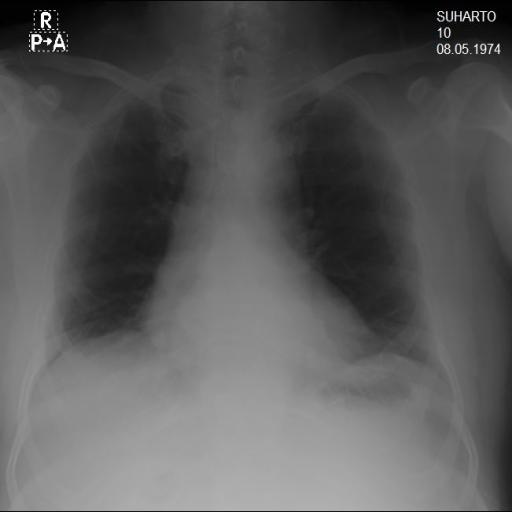kardiomegali: (26, 43, 460, 403)
